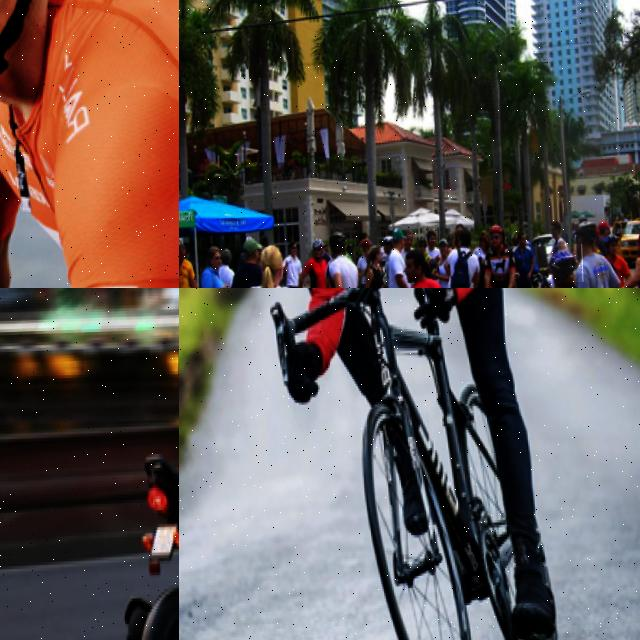helmet: (547, 244, 583, 282), (482, 216, 512, 247), (324, 228, 348, 250)
